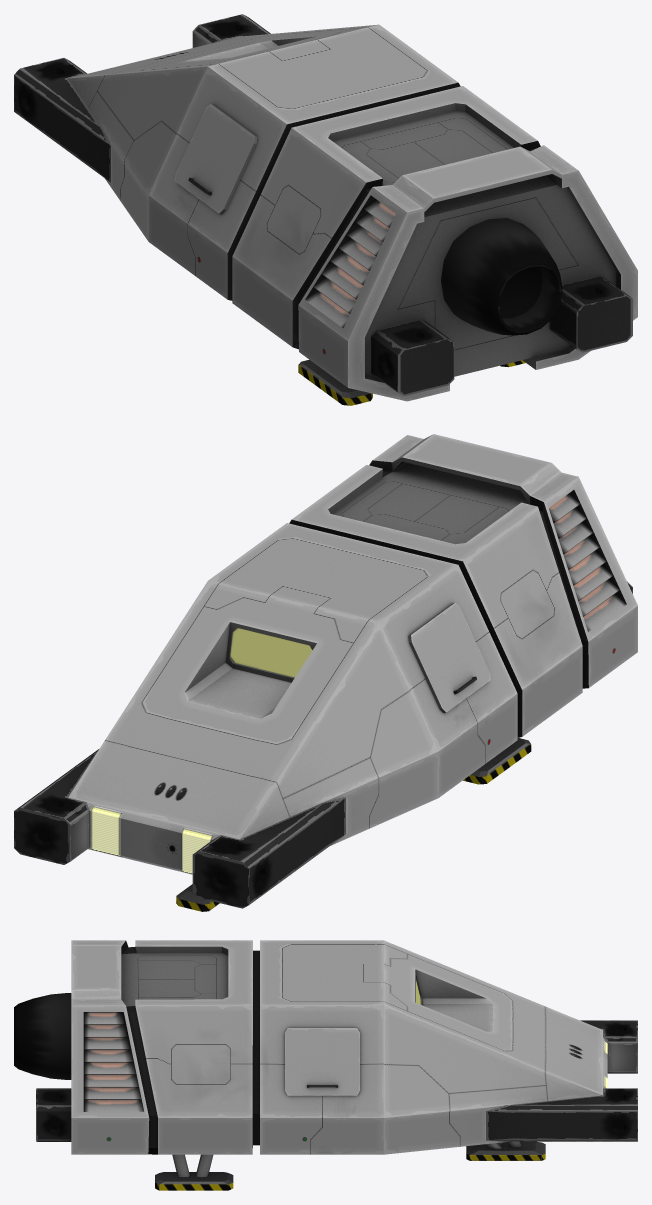
The picture shows the model from 3 angles, top to bottom: view 1: azimuth 30°, elevation 25°; view 2: azimuth 150°, elevation 25°; view 3: azimuth 270°, elevation 25°; orthographic projection. The views are drawn at different scales.
Visible parts, largest first — view 1: Material_003-material (×2), Exaust-material; view 2: Material_003-material (×2); view 3: Material_003-material (×3), Exaust-material.
Boxes of the visible parts, x1,y1,x2,y2 form: Material_003-material (×2): [14, 14, 637, 405]; Exaust-material: [441, 218, 562, 335]; Material_003-material (×2): [14, 434, 637, 908]; Material_003-material (×3): [36, 940, 637, 1190]; Exaust-material: [14, 993, 71, 1079].
Size of what is drawn, in the model's own units: 3.8 by 2.99 by 9.05.
2 materials, 2 textured.
